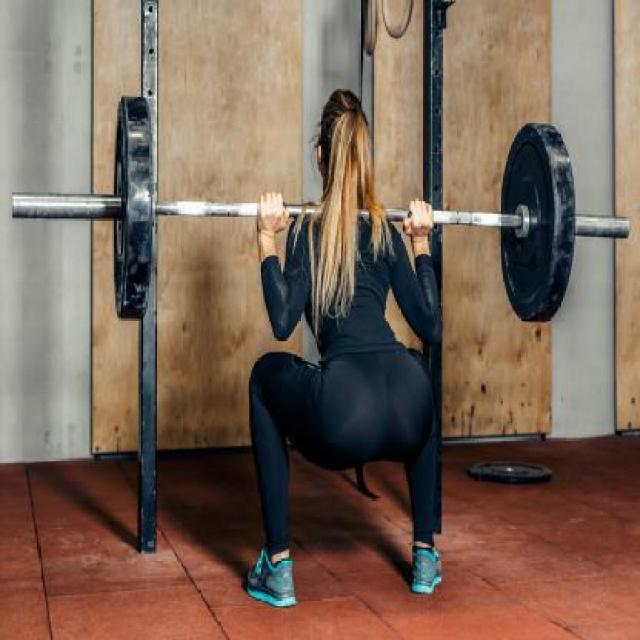Barbell: (5, 179, 22, 224)
